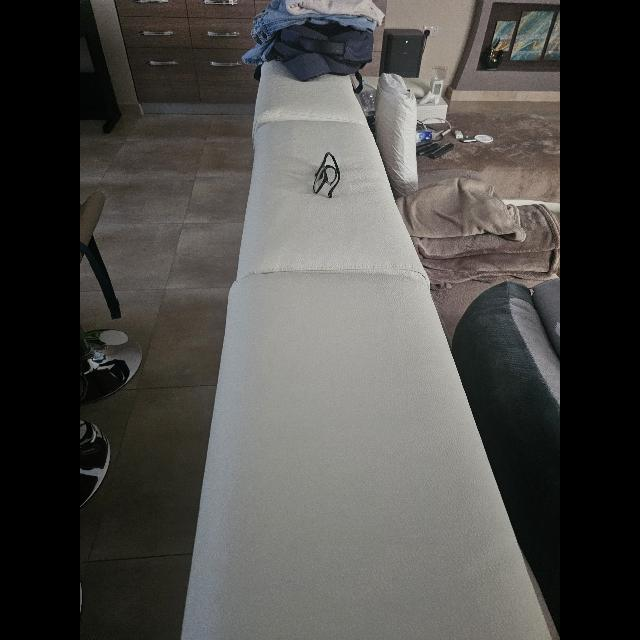glasses: (314, 152, 341, 198)
